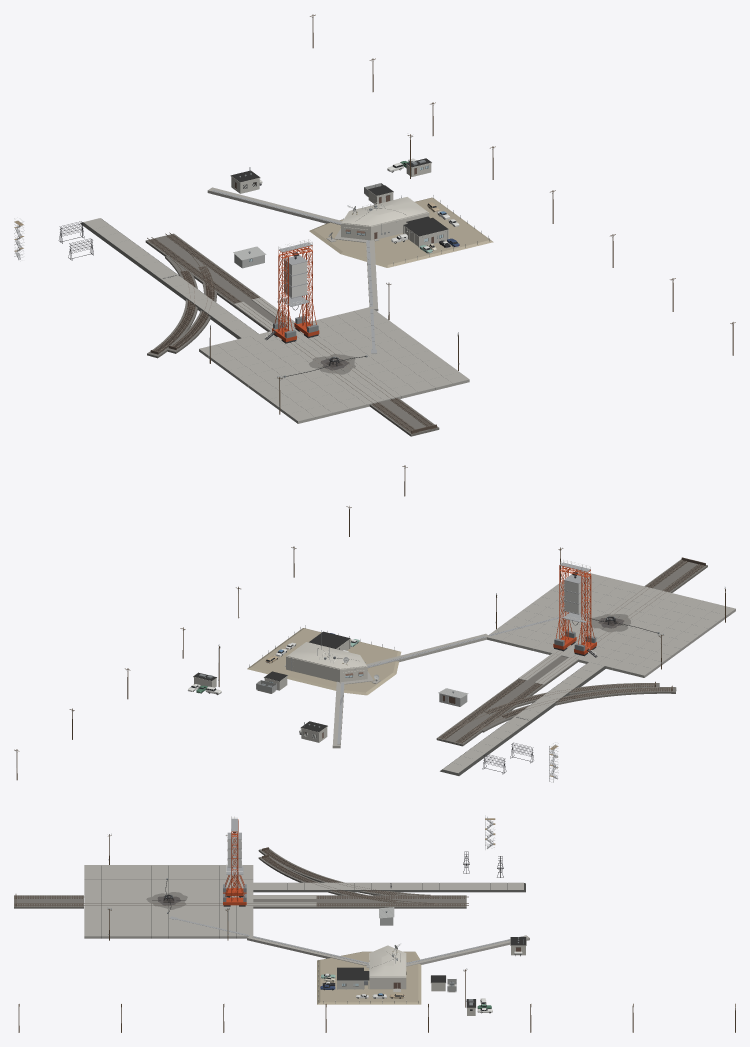
Rendered from surroundings.lod2.glb.
3 views of the same model, one above another, from view 1: azimuth 30°, elevation 25°; view 2: azimuth 150°, elevation 25°; view 3: azimuth 270°, elevation 25° (orthographic). The views are drawn at different scales.
Visible parts, largest first — view 1: Pad6_Concrete, Track_Ballast, Blockhouse_Shell, Track_Tie, Road_Concrete, Pad6Gantry_Red, Track_Rail, Blockhouse_BunkerRoof, CableTrenches_ConcreteTrench, Track_BallastSpur, Blockhouse_Bunker, Pad6Gantry_Trailer (+2 smaller); view 2: Pad6_Concrete, Track_Ballast, Blockhouse_Shell, Track_Tie, Road_Concrete, Track_Rail, Pad6Gantry_Red, Track_BallastSpur, Blockhouse_BunkerRoof, Blockhouse_Bunker, CableTrenches_ConcreteTrench, Track_Concrete (+2 smaller); view 3: Pad6_Concrete, Track_Ballast, Blockhouse_Shell, Road_Concrete, Track_Rail, Track_Tie, Track_BallastSpur, CableTrenches_ConcreteTrench, Blockhouse_BunkerRoof, Pad6Gantry_Red, Road_Joint, Track_Concrete (+6 smaller).
Boxes of the visible parts, x1=… form: Pad6_Concrete: x1=199, y1=307, x2=469, y2=423; Track_Ballast: x1=145, y1=233, x2=439, y2=436; Blockhouse_Shell: x1=309, y1=197, x2=493, y2=267; Track_Tie: x1=148, y1=234, x2=437, y2=433; Road_Concrete: x1=83, y1=218, x2=258, y2=337; Pad6Gantry_Red: x1=272, y1=245, x2=319, y2=341; Track_Rail: x1=147, y1=232, x2=432, y2=430; Blockhouse_BunkerRoof: x1=342, y1=197, x2=427, y2=225; CableTrenches_ConcreteTrench: x1=207, y1=187, x2=378, y2=311; Track_BallastSpur: x1=147, y1=256, x2=216, y2=358; Blockhouse_Bunker: x1=341, y1=197, x2=429, y2=240; Pad6Gantry_Trailer: x1=284, y1=260, x2=307, y2=297; Pad6_Concrete: x1=486, y1=570, x2=735, y2=677; Track_Ballast: x1=436, y1=559, x2=707, y2=746; Blockhouse_Shell: x1=247, y1=628, x2=401, y2=695; Track_Tie: x1=439, y1=557, x2=705, y2=743; Road_Concrete: x1=443, y1=662, x2=604, y2=773; Track_Rail: x1=438, y1=560, x2=703, y2=744; Pad6Gantry_Red: x1=553, y1=565, x2=596, y2=654; Track_BallastSpur: x1=482, y1=683, x2=676, y2=732; Blockhouse_BunkerRoof: x1=288, y1=642, x2=366, y2=668; Blockhouse_Bunker: x1=286, y1=642, x2=367, y2=682; CableTrenches_ConcreteTrench: x1=332, y1=633, x2=487, y2=748; Track_Concrete: x1=518, y1=653, x2=577, y2=684; Pad6_Concrete: x1=84, y1=865, x2=253, y2=938; Track_Ballast: x1=14, y1=895, x2=466, y2=908; Blockhouse_Shell: x1=317, y1=951, x2=421, y2=1004; Road_Concrete: x1=253, y1=882, x2=523, y2=889; Track_Rail: x1=16, y1=850, x2=468, y2=905; Track_Tie: x1=14, y1=847, x2=464, y2=906; Track_BallastSpur: x1=258, y1=848, x2=430, y2=895; CableTrenches_ConcreteTrench: x1=247, y1=935, x2=529, y2=966; Blockhouse_BunkerRoof: x1=370, y1=945, x2=405, y2=976; Pad6Gantry_Red: x1=223, y1=819, x2=246, y2=905; Road_Joint: x1=253, y1=883, x2=525, y2=892; Track_Concrete: x1=253, y1=895, x2=316, y2=906.
Bounding box in the file's own units: 157 × 34.28 × 260.
